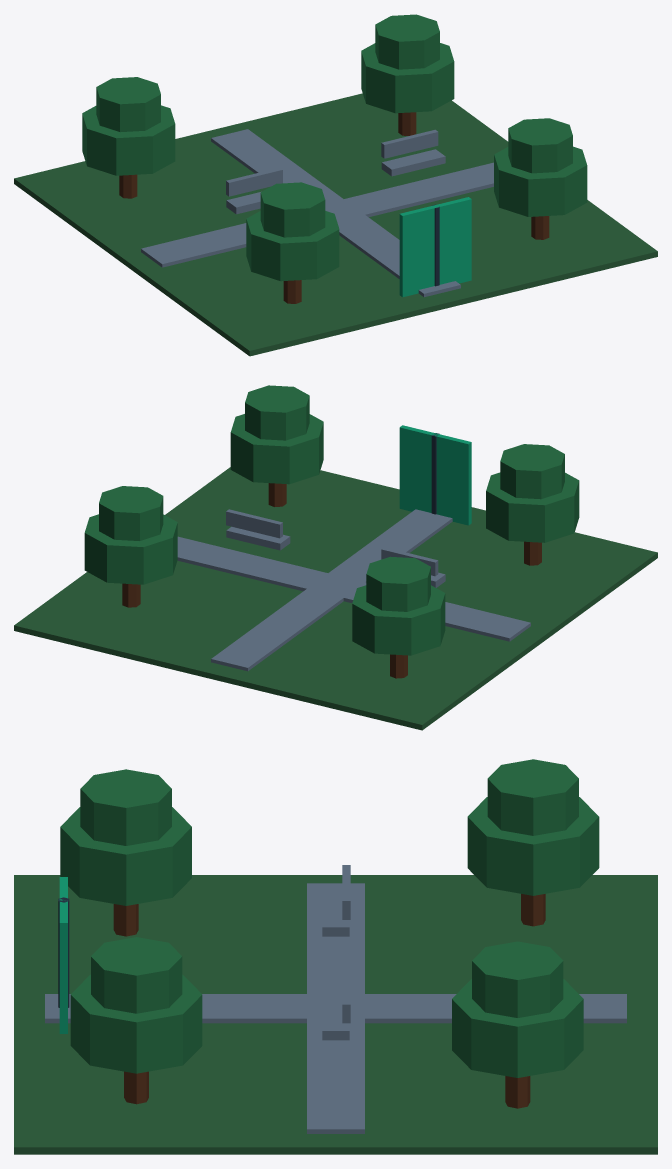
Rendered from emergency-park.obj.
3 views of the same model, one above another, from view 1: azimuth 30°, elevation 25°; view 2: azimuth 150°, elevation 25°; view 3: azimuth 270°, elevation 25° (orthographic). The views are drawn at different scales.
Visible parts, largest first — view 1: Lawn, Lower crown, Upper crown, Cross path, Assembly sign, Bench back, Trunk, Bench seat; view 2: Lawn, Lower crown, Cross path, Upper crown, Assembly sign, Trunk, Bench back, Bench seat; view 3: Lawn, Lower crown, Upper crown, Cross path, Trunk, Bench seat, Assembly sign, Bench back.
Boxes of the visible parts, x1,y1,x2,y2 form: Lawn: [14, 93, 657, 356]; Lower crown: [82, 43, 587, 281]; Upper crown: [96, 14, 572, 237]; Cross path: [141, 129, 493, 297]; Assembly sign: [399, 197, 471, 297]; Bench back: [226, 129, 438, 196]; Trunk: [119, 112, 549, 303]; Bench seat: [226, 149, 445, 214]; Lawn: [14, 467, 657, 730]; Lower crown: [84, 414, 579, 655]; Cross path: [177, 509, 530, 671]; Upper crown: [99, 385, 564, 611]; Assembly sign: [399, 425, 471, 525]; Trunk: [122, 483, 541, 678]; Bench back: [226, 509, 438, 576]; Bench seat: [226, 526, 445, 587]; Lawn: [14, 875, 657, 1154]; Lower crown: [60, 797, 599, 1077]; Upper crown: [80, 759, 578, 1017]; Cross path: [45, 883, 626, 1133]; Trunk: [113, 894, 545, 1108]; Bench seat: [322, 891, 349, 1040]; Assembly sign: [59, 877, 67, 1033]; Bench back: [342, 865, 350, 1023].
Bounding box in the file's own units: 6.2 × 1.59 × 6.2.
